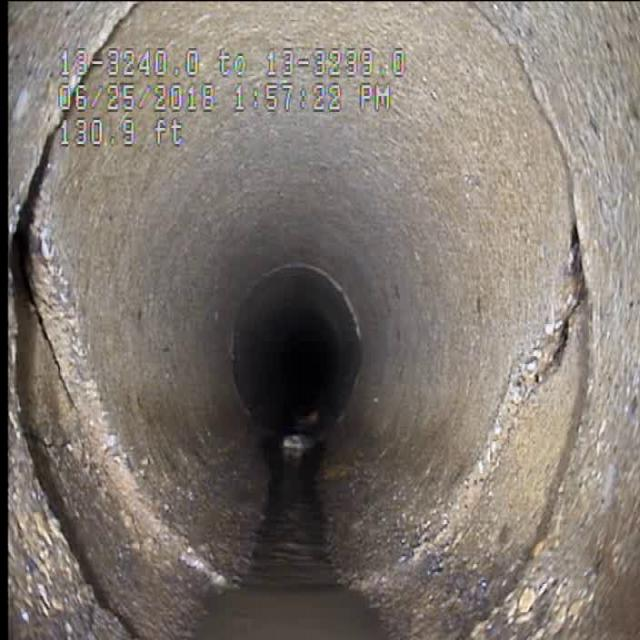Fracture: (10, 161, 137, 568), (449, 229, 589, 568)
